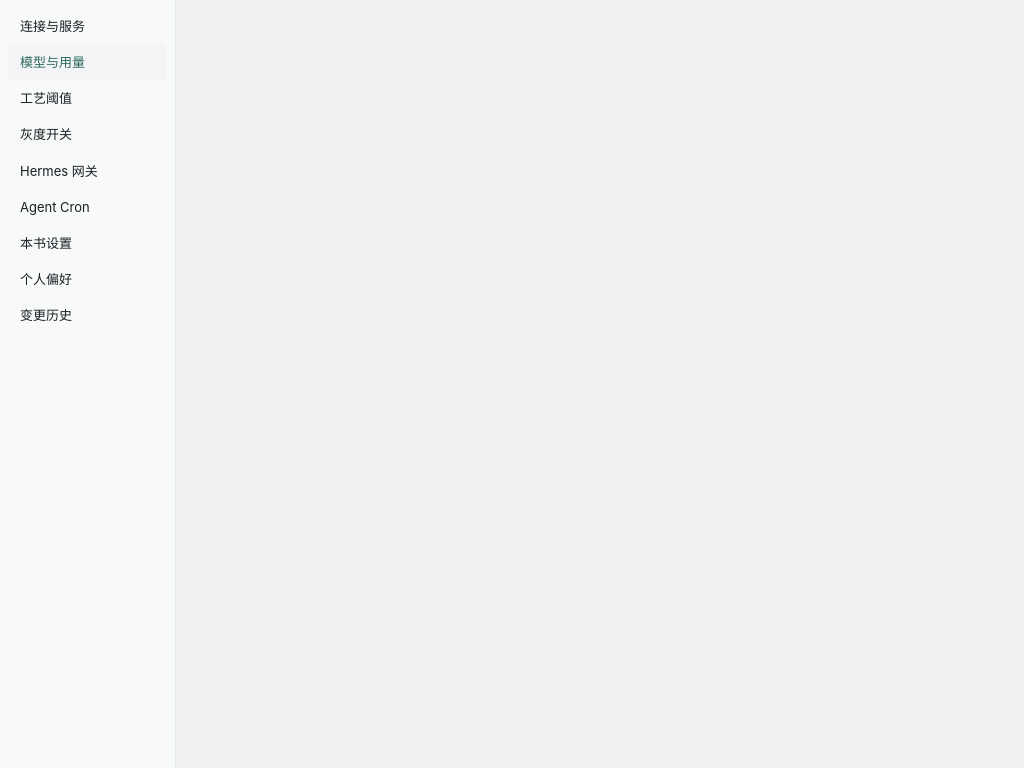
SettingsView › secret 项 default 为 None 时,恢复默认提示显示「恢复为未设置」而非 null
What coordinates should you click on to do the following:
click the button "灰度开关"
I would click on:
 (88, 134)
Its box is [8,116,167,152].
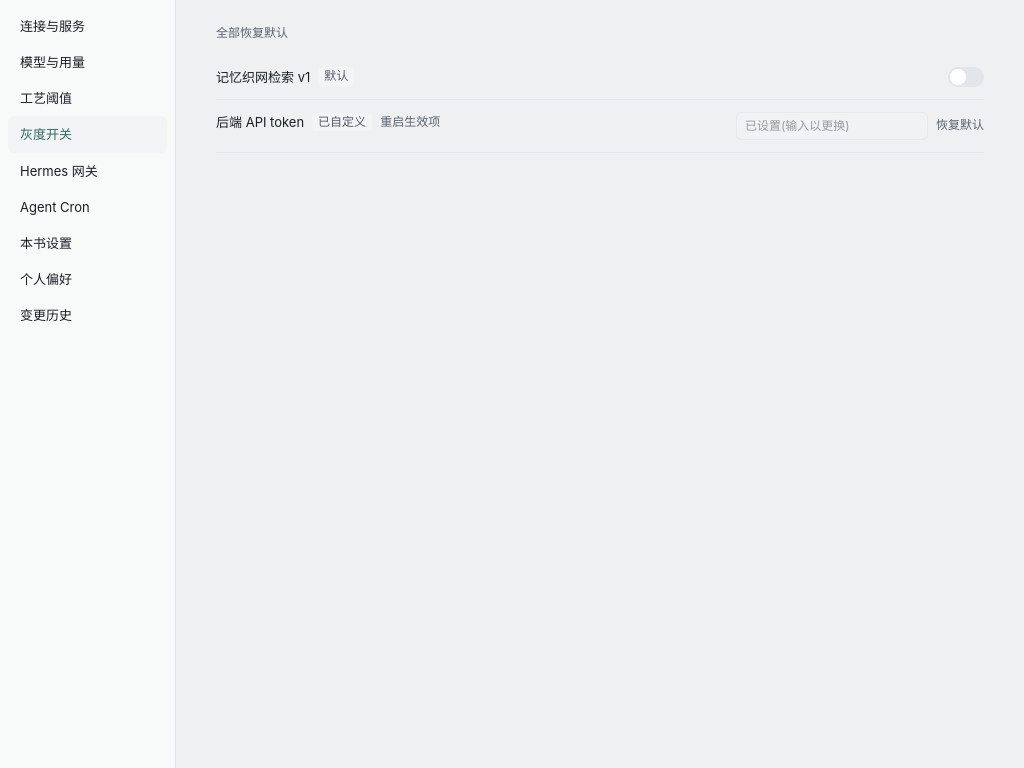
What coordinates should you click on to do the following:
click the button with aria-label "恢复默认:后端 API token"
I would click on:
 (960, 126)
Its box is [936,116,984,135].
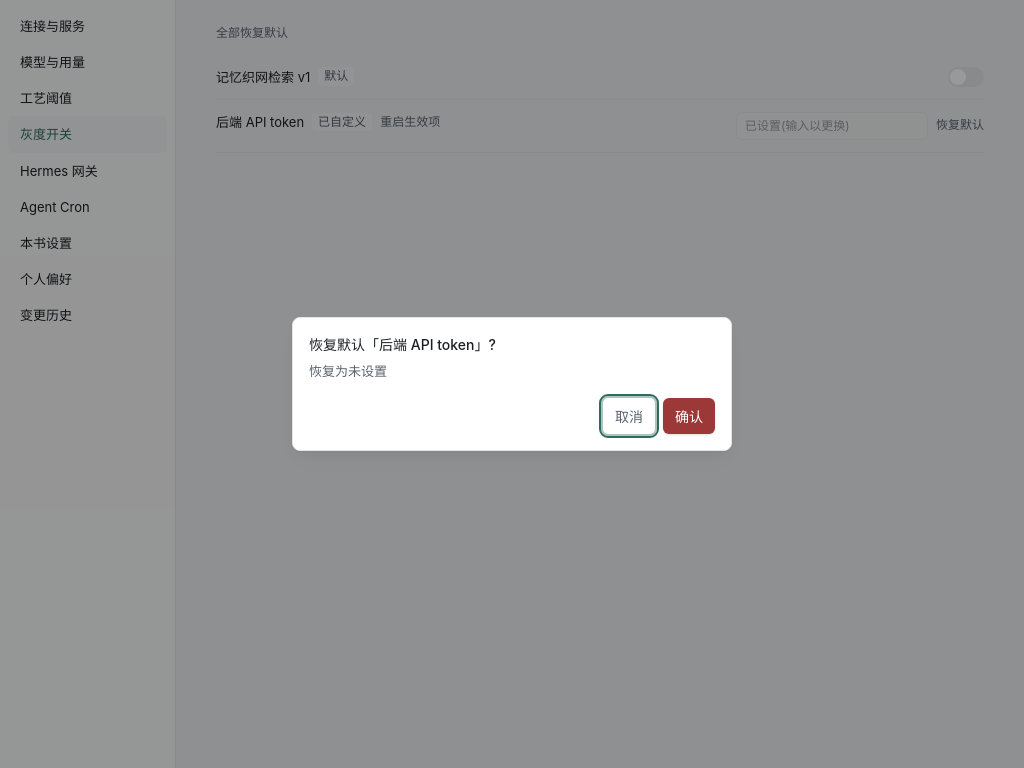
Now the text "恢复为未设置" is shown, box [309,363,387,379]
